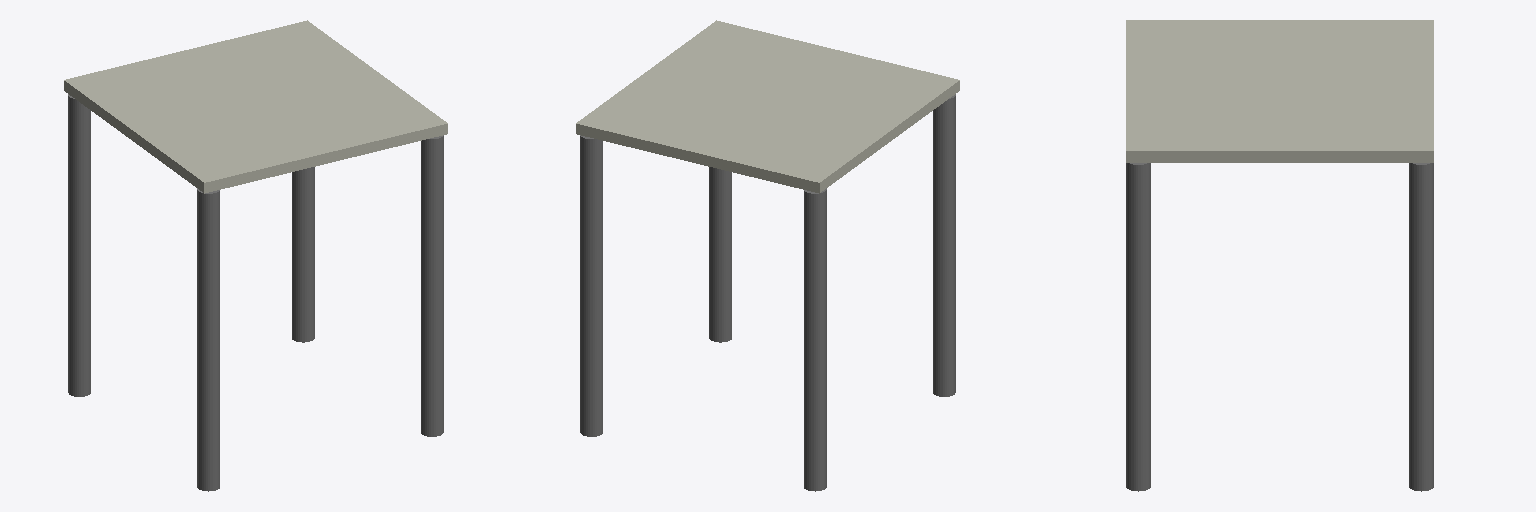
URDF robot description (table):
<?xml version="1.0" encoding="utf-8"?>
<robot name="table">

  <material name="table_white">
    <color rgba="0.75 0.75 0.7 1.0"/>
  </material>
  <material name="table_gray">
    <color rgba="0.5 0.5 0.5 1.0"/>
  </material>

  <!-- Virtual root -->
  <link name="base_link"/>

  <!-- Table top -->
  <joint name="table_top_joint" type="fixed">
    <parent link="base_link"/>
    <child link="table_top_link"/>
    <origin xyz="0 0 0.7175" rpy="0 0 0"/>
  </joint>
  <link name="table_top_link">
    <visual>
      <geometry>
        <box size="0.6 0.6 0.025"/>
      </geometry>
      <material name="table_white"/>
    </visual>
    <collision>
      <geometry>
        <box size="0.6 0.6 0.025"/>
      </geometry>
    </collision>
    <inertial>
      <mass value="5.0"/>
      <inertia ixx="0.1" ixy="0" ixz="0" iyy="0.1" iyz="0" izz="0.1"/>
    </inertial>
  </link>

  <!-- Leg front-left -->
  <joint name="leg_fl_joint" type="fixed">
    <parent link="base_link"/>
    <child link="leg_fl_link"/>
    <origin xyz=" 0.275  0.275 0.350" rpy="0 0 0"/>
  </joint>
  <link name="leg_fl_link">
    <visual>
      <geometry><cylinder length="0.700" radius="0.025"/></geometry>
      <material name="table_gray"/>
    </visual>
    <collision>
      <geometry><cylinder length="0.700" radius="0.025"/></geometry>
    </collision>
    <inertial>
      <mass value="1.0"/>
      <inertia ixx="0.04" ixy="0" ixz="0" iyy="0.04" iyz="0" izz="0.0003"/>
    </inertial>
  </link>

  <!-- Leg front-right -->
  <joint name="leg_fr_joint" type="fixed">
    <parent link="base_link"/>
    <child link="leg_fr_link"/>
    <origin xyz=" 0.275 -0.275 0.350" rpy="0 0 0"/>
  </joint>
  <link name="leg_fr_link">
    <visual>
      <geometry><cylinder length="0.700" radius="0.025"/></geometry>
      <material name="table_gray"/>
    </visual>
    <collision>
      <geometry><cylinder length="0.700" radius="0.025"/></geometry>
    </collision>
    <inertial>
      <mass value="1.0"/>
      <inertia ixx="0.04" ixy="0" ixz="0" iyy="0.04" iyz="0" izz="0.0003"/>
    </inertial>
  </link>

  <!-- Leg rear-left -->
  <joint name="leg_rl_joint" type="fixed">
    <parent link="base_link"/>
    <child link="leg_rl_link"/>
    <origin xyz="-0.275  0.275 0.350" rpy="0 0 0"/>
  </joint>
  <link name="leg_rl_link">
    <visual>
      <geometry><cylinder length="0.700" radius="0.025"/></geometry>
      <material name="table_gray"/>
    </visual>
    <collision>
      <geometry><cylinder length="0.700" radius="0.025"/></geometry>
    </collision>
    <inertial>
      <mass value="1.0"/>
      <inertia ixx="0.04" ixy="0" ixz="0" iyy="0.04" iyz="0" izz="0.0003"/>
    </inertial>
  </link>

  <!-- Leg rear-right -->
  <joint name="leg_rr_joint" type="fixed">
    <parent link="base_link"/>
    <child link="leg_rr_link"/>
    <origin xyz="-0.275 -0.275 0.350" rpy="0 0 0"/>
  </joint>
  <link name="leg_rr_link">
    <visual>
      <geometry><cylinder length="0.700" radius="0.025"/></geometry>
      <material name="table_gray"/>
    </visual>
    <collision>
      <geometry><cylinder length="0.700" radius="0.025"/></geometry>
    </collision>
    <inertial>
      <mass value="1.0"/>
      <inertia ixx="0.04" ixy="0" ixz="0" iyy="0.04" iyz="0" izz="0.0003"/>
    </inertial>
  </link>

</robot>

--- Facts derived from the render (not from the file) ---
Views: 3 orthographic renders of the robot side by side, from view 1: azimuth 30°, elevation 25°; view 2: azimuth 150°, elevation 25°; view 3: azimuth 270°, elevation 25°.
Robot: table — 6 links, 5 joints (5 fixed); root link base_link; default pose: every joint at zero.
Visible links, largest first — view 1: table_top_link, leg_rr_link, leg_fr_link, leg_rl_link, leg_fl_link; view 2: table_top_link, leg_rl_link, leg_fl_link, leg_rr_link, leg_fr_link; view 3: table_top_link, leg_fl_link, leg_fr_link.
Link boxes in pixels (left/top/right/bottom): table_top_link: left=64, top=20, right=447, bottom=193; leg_rr_link: left=197, top=188, right=219, bottom=491; leg_fr_link: left=421, top=135, right=443, bottom=436; leg_rl_link: left=68, top=94, right=90, bottom=396; leg_fl_link: left=292, top=167, right=314, bottom=342; table_top_link: left=576, top=20, right=959, bottom=193; leg_rl_link: left=804, top=188, right=826, bottom=491; leg_fl_link: left=580, top=135, right=602, bottom=436; leg_rr_link: left=933, top=94, right=955, bottom=396; leg_fr_link: left=709, top=167, right=731, bottom=342; table_top_link: left=1126, top=20, right=1433, bottom=162; leg_fl_link: left=1409, top=163, right=1433, bottom=491; leg_fr_link: left=1126, top=163, right=1150, bottom=491.
Size in the robot's own frame: 0.6 by 0.6 by 0.73 metres.
Geometry: primitives only (box / cylinder / sphere), no mesh files.
